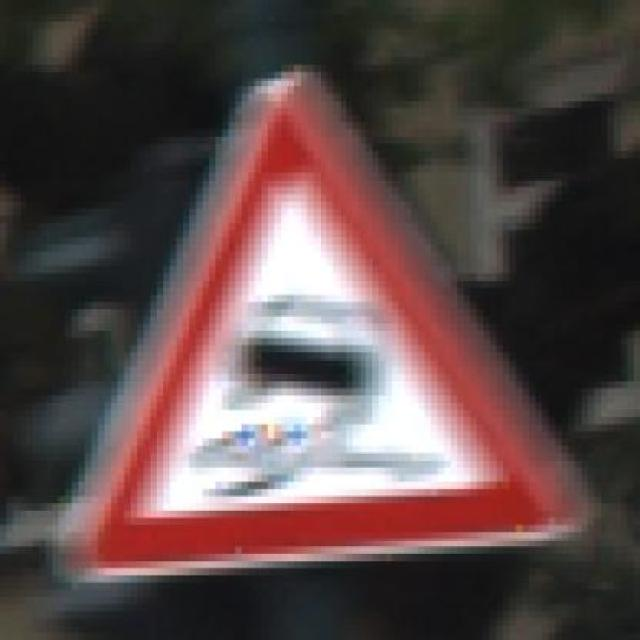Slippery Road Ahead: (59, 63, 595, 588)
